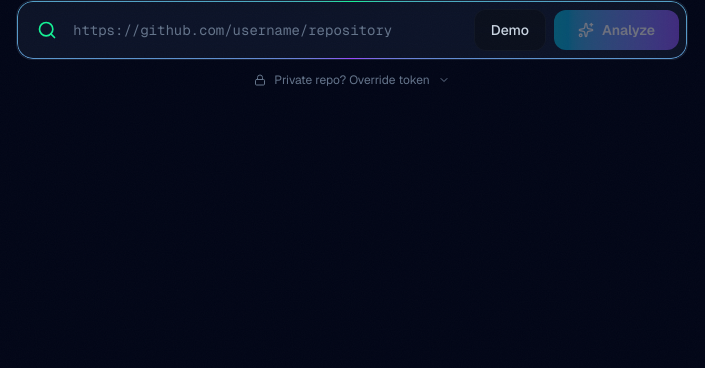
Test: RepoInput › toggles guide visibility when 'How to get a token' is clicked
What coordinates should you click on to do the following:
click the button "Private repo? Override token"
I would click on:
 (352, 80)
Its box is [254,72,450,88].
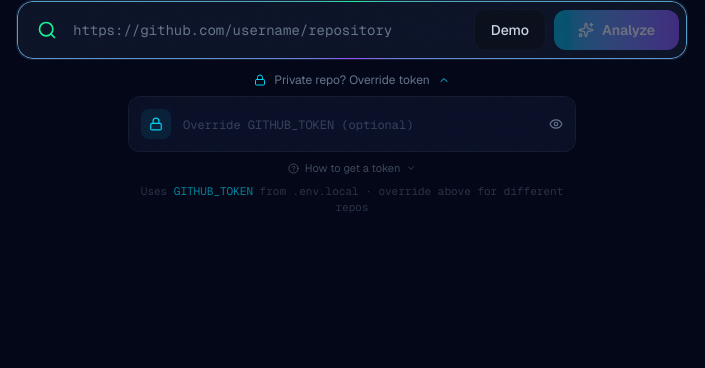
What coordinates should you click on to do the following:
click the button "How to get a token"
I would click on:
 (352, 168)
Its box is [288,160,416,176].
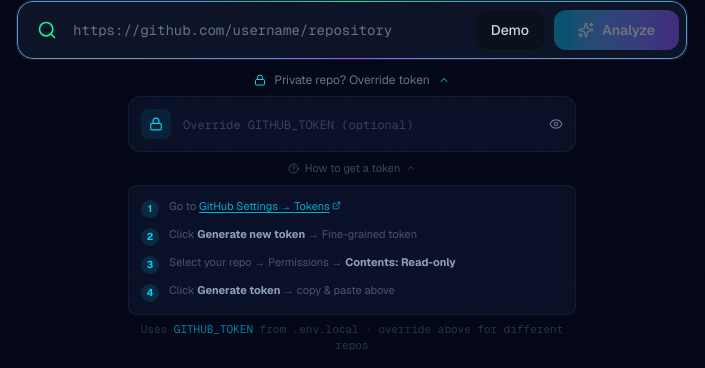
Expected: the link "GitHub Settings → Tokens" is shown, [199,198,341,214]
